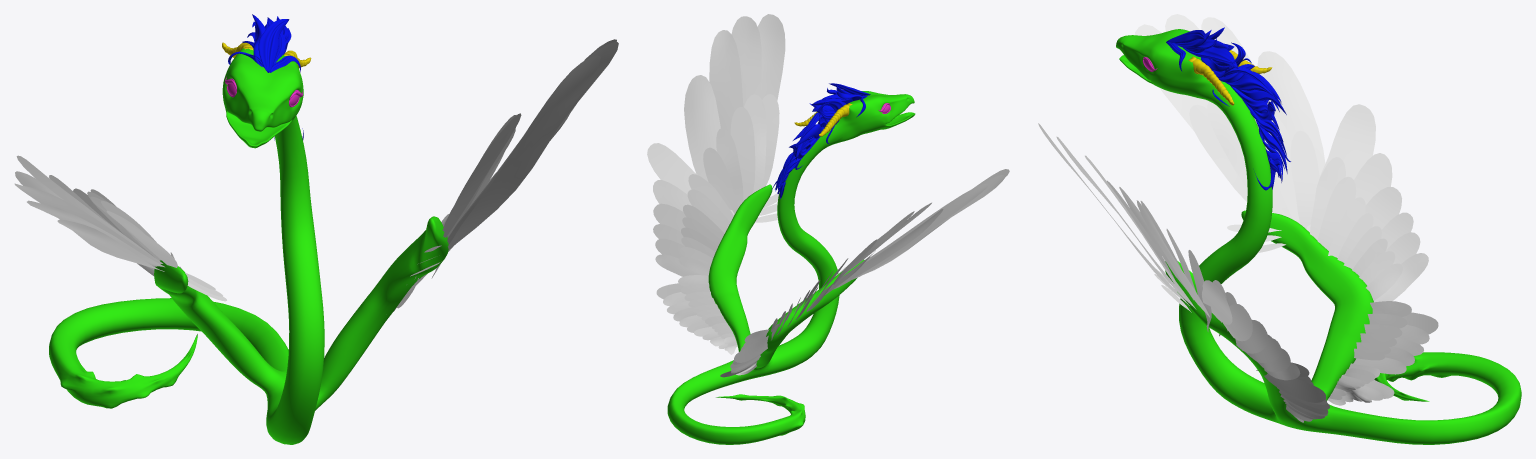
File: OccamyPrint.fbx
3 renders of one model, left to right at view 1: azimuth 30°, elevation 25°; view 2: azimuth 150°, elevation 25°; view 3: azimuth 270°, elevation 25°, orthographic. The views are drawn at different scales.
Visible parts, largest first — view 1: Occamy.002, Front Feathers.001, Occamy.001; view 2: Front Feathers.001, Occamy.002, Occamy.001, Occamy.004; view 3: Front Feathers.001, Occamy.002, Occamy.001, Occamy.004.
Boxes of the visible parts, x1,y1,x2,y2 form: Occamy.002: (49, 48, 448, 444); Front Feathers.001: (14, 39, 618, 311); Occamy.001: (228, 14, 303, 140); Front Feathers.001: (647, 14, 1009, 377); Occamy.002: (667, 91, 915, 444); Occamy.001: (772, 83, 870, 198); Occamy.004: (794, 103, 852, 136); Front Feathers.001: (1038, 14, 1438, 422); Occamy.002: (1116, 29, 1521, 444); Occamy.001: (1166, 27, 1290, 190); Occamy.004: (1188, 50, 1272, 105).
Size of the model in its own units: 826 by 649 by 764.
